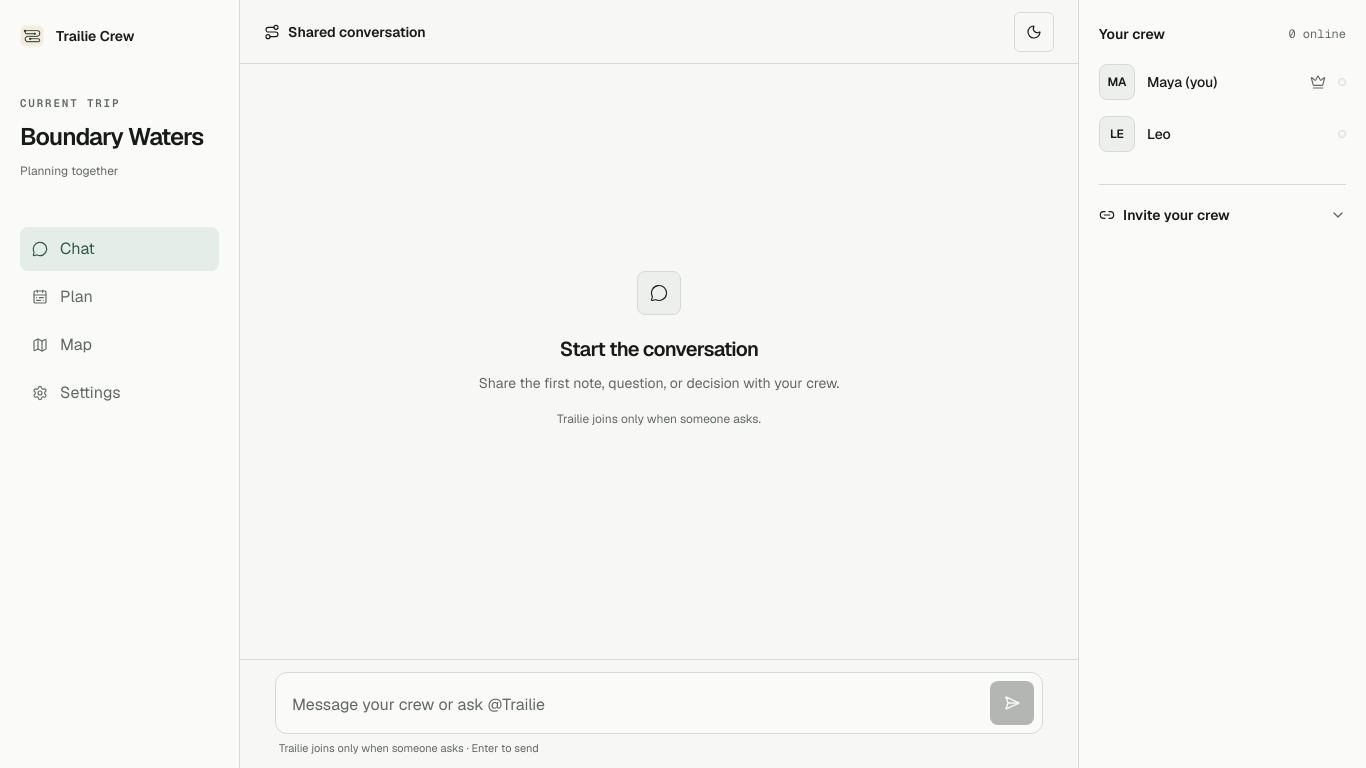
Test case: TripShell › opens Plan from navigation and returns to Chat
The width and height of the screenshot is (1366, 768).
Click the button "Plan": (120, 297) [20,275,219,319]
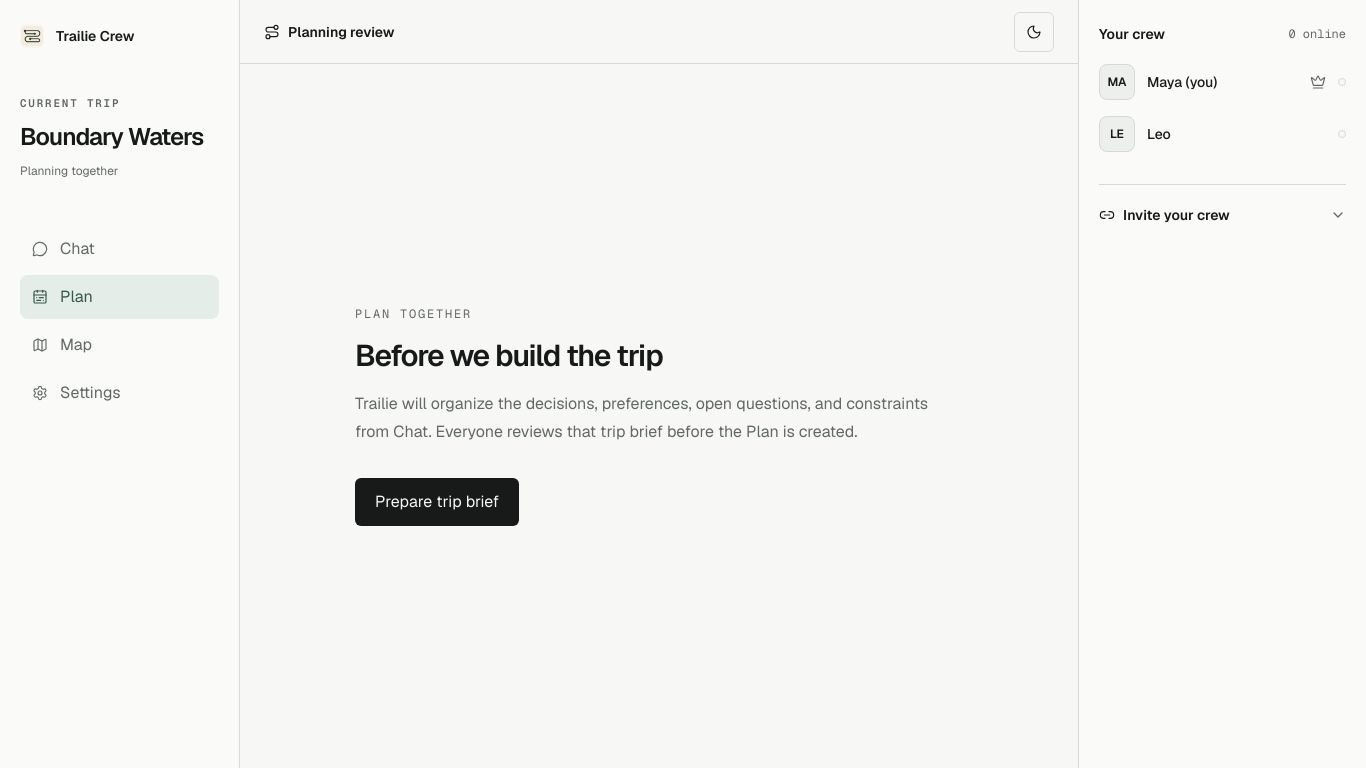
Expected: the button "Prepare trip brief" is shown, [355,478,519,526]
Click the button "Chat": (120, 249) [20,227,219,271]
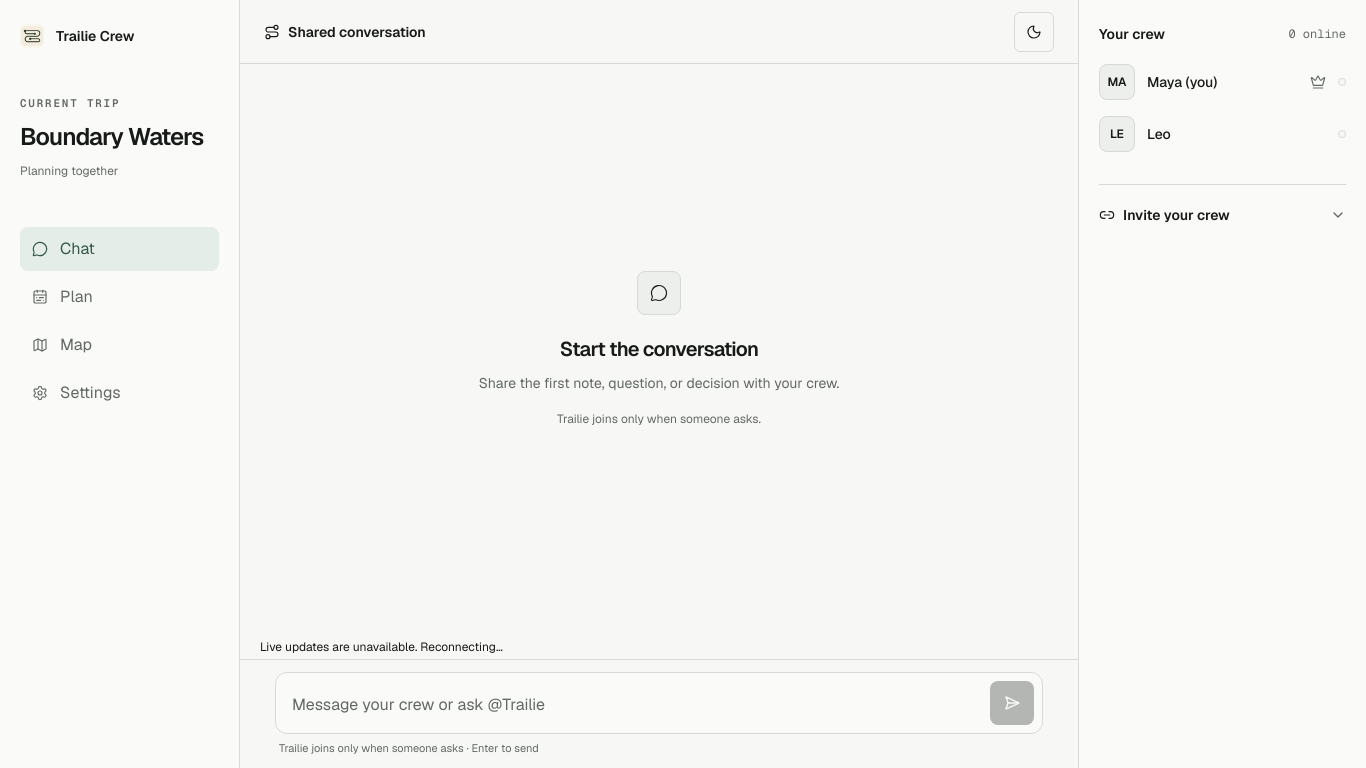
Expected: the heading "Start the conversation" is shown, [560,336,758,362]
